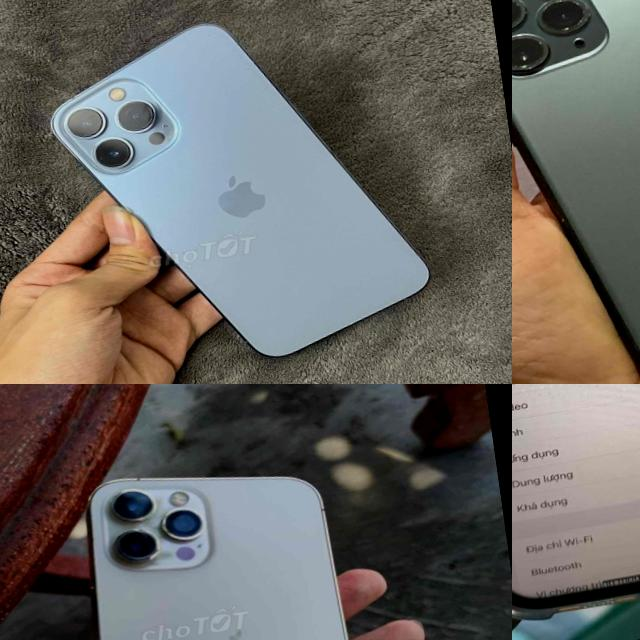gen_11: (512, 0, 640, 384)
gen_12_13: (32, 0, 445, 384), (61, 442, 416, 640), (512, 384, 640, 639)
